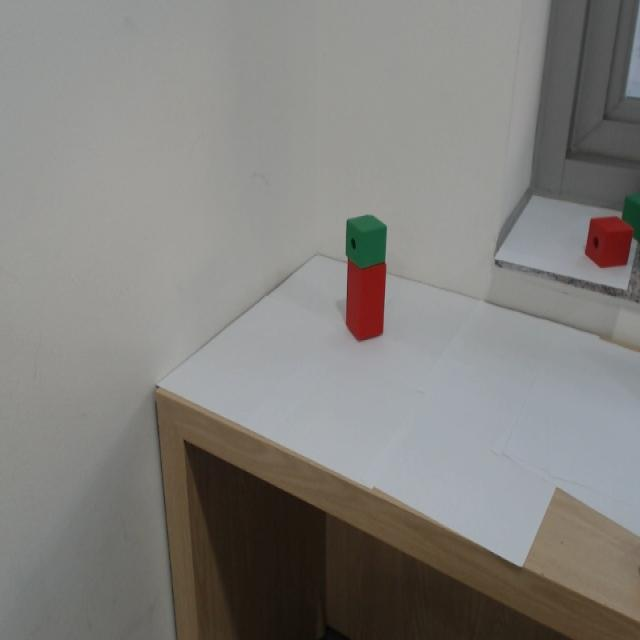cube: (345, 259, 384, 333), (343, 219, 386, 272)
